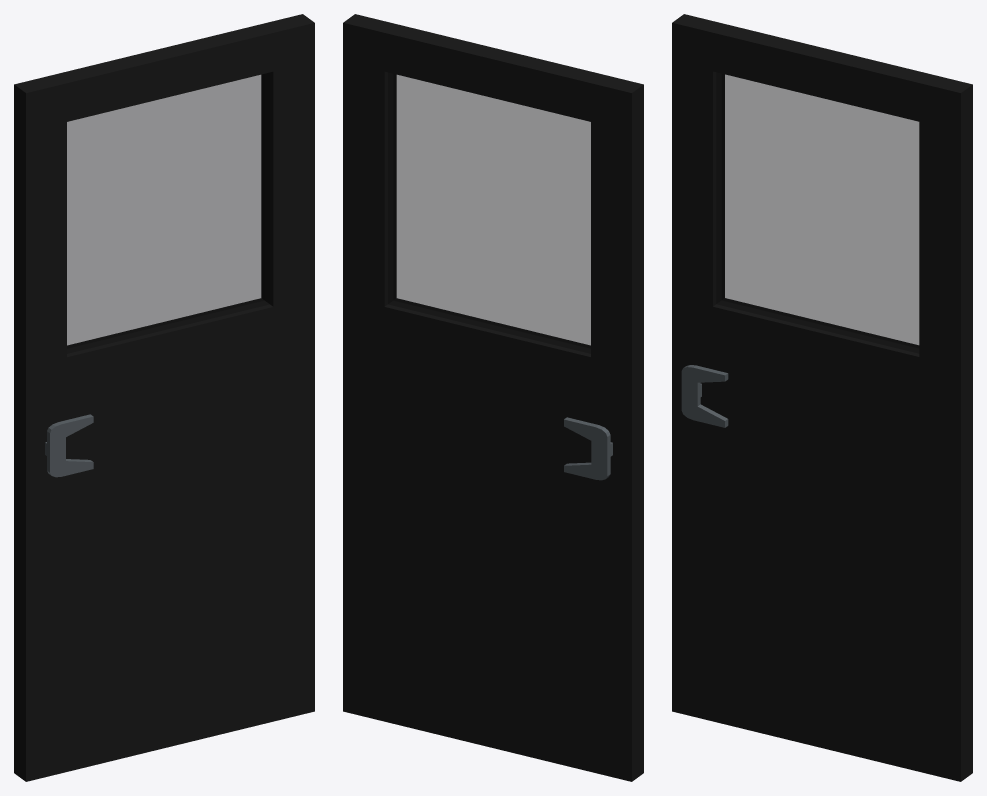
File: DoorsV5.glb
The picture shows the model from 3 angles, left to right: view 1: azimuth 30°, elevation 25°; view 2: azimuth 150°, elevation 25°; view 3: azimuth 330°, elevation 25°; orthographic projection.
Visible parts, largest first — view 1: FrontDoorL.053, DoorHandle.001; view 2: FrontDoorL.053, DoorHandle.003; view 3: FrontDoorL.053, DoorHandle.001.
Boxes of the visible parts, bbox=[...] form: FrontDoorL.053: bbox=[14, 14, 314, 781]; DoorHandle.001: bbox=[45, 414, 93, 477]; FrontDoorL.053: bbox=[343, 14, 643, 781]; DoorHandle.003: bbox=[564, 417, 612, 480]; FrontDoorL.053: bbox=[672, 14, 972, 781]; DoorHandle.001: bbox=[681, 365, 728, 427].
Bounding box in the file's own units: 0.9358 × 2.13 × 0.1521.
3 materials, 1 textured.
